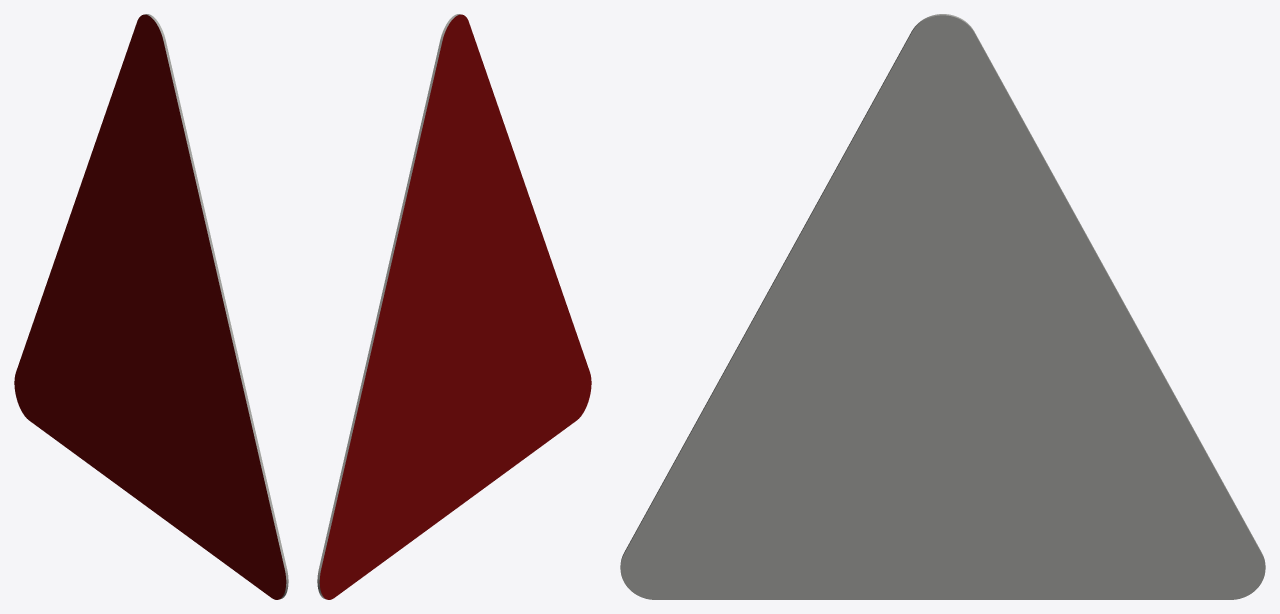
Rendered from RoadtSign_1type_B.FBX.
3 renders of one model, left to right at view 1: azimuth 30°, elevation 25°; view 2: azimuth 150°, elevation 25°; view 3: azimuth 270°, elevation 25°, orthographic. The views are drawn at different scales.
Parts seen in each view (by area): view 1: roadtsign_1type; view 2: roadtsign_1type; view 3: roadtsign_1type.
Part boxes in pixels (x1,y1,x2,y2): roadtsign_1type: [14, 14, 288, 599]; roadtsign_1type: [317, 14, 591, 599]; roadtsign_1type: [620, 14, 1265, 599].
Bounding box in the file's own units: 0.5 × 101 × 101.
